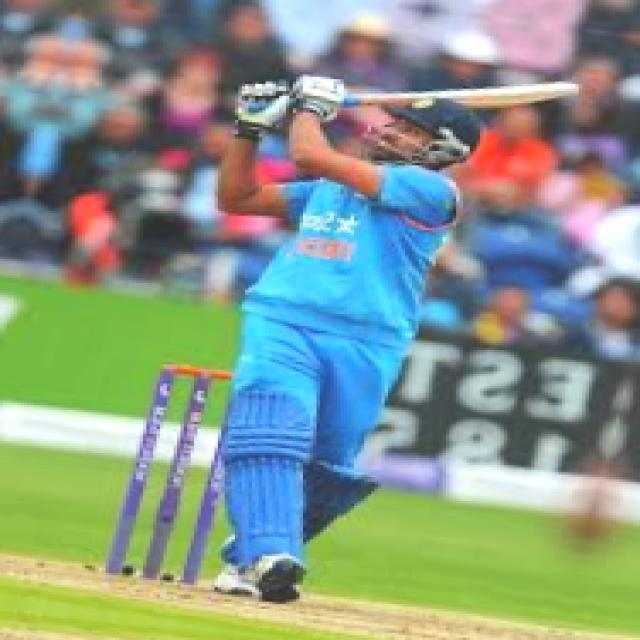toe: (548, 82, 586, 99)
